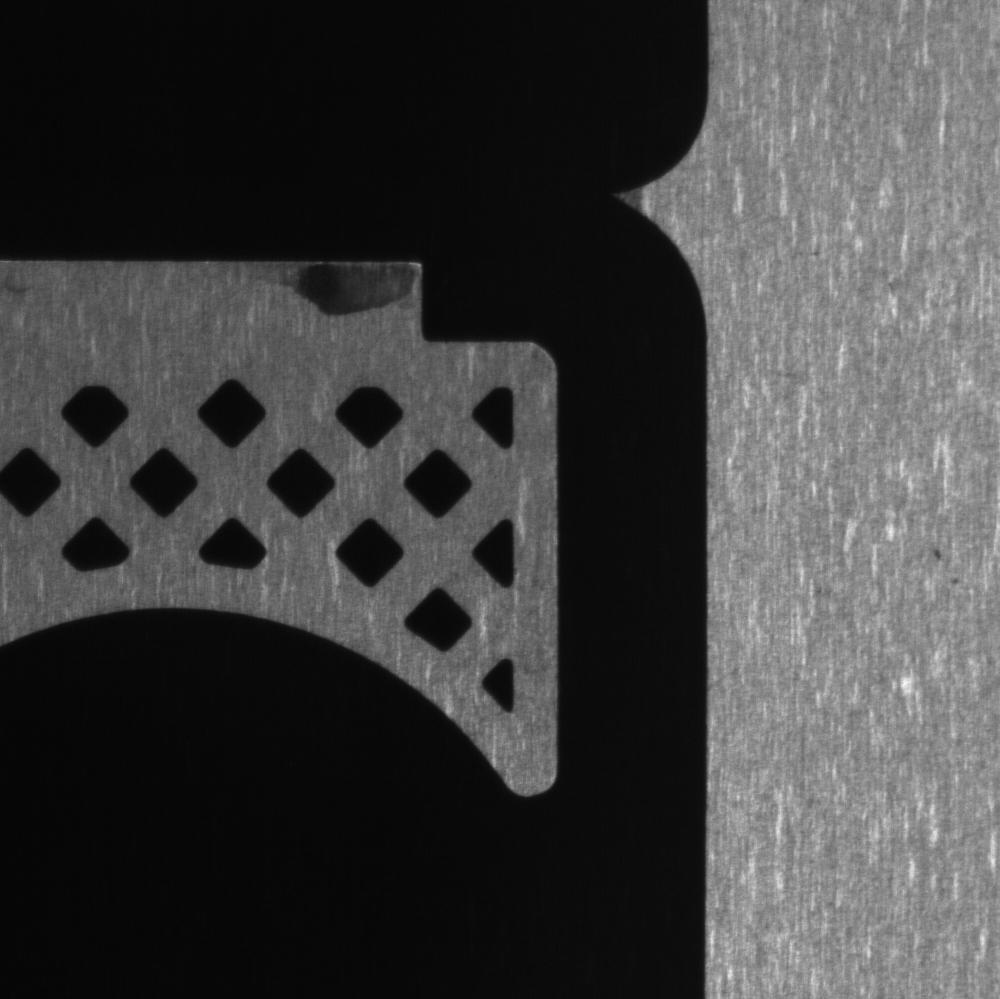Discolor: (237, 257, 419, 326)
